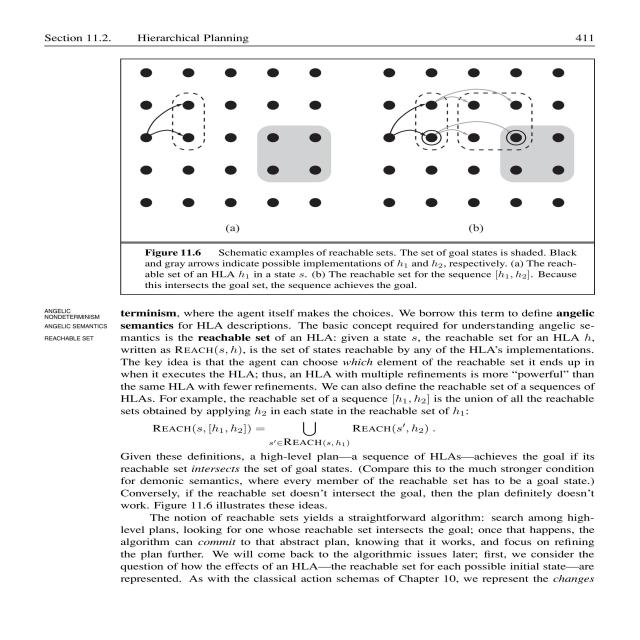diagram: (100, 52, 594, 300)
